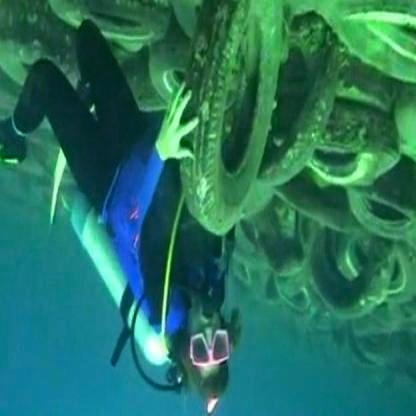tire: (182, 1, 279, 250), (268, 17, 333, 167), (301, 95, 393, 197), (46, 1, 181, 65), (306, 222, 379, 327), (328, 8, 416, 88), (233, 197, 317, 275), (339, 236, 416, 318), (0, 7, 70, 93), (348, 174, 416, 246), (140, 36, 209, 94), (269, 258, 317, 318)
